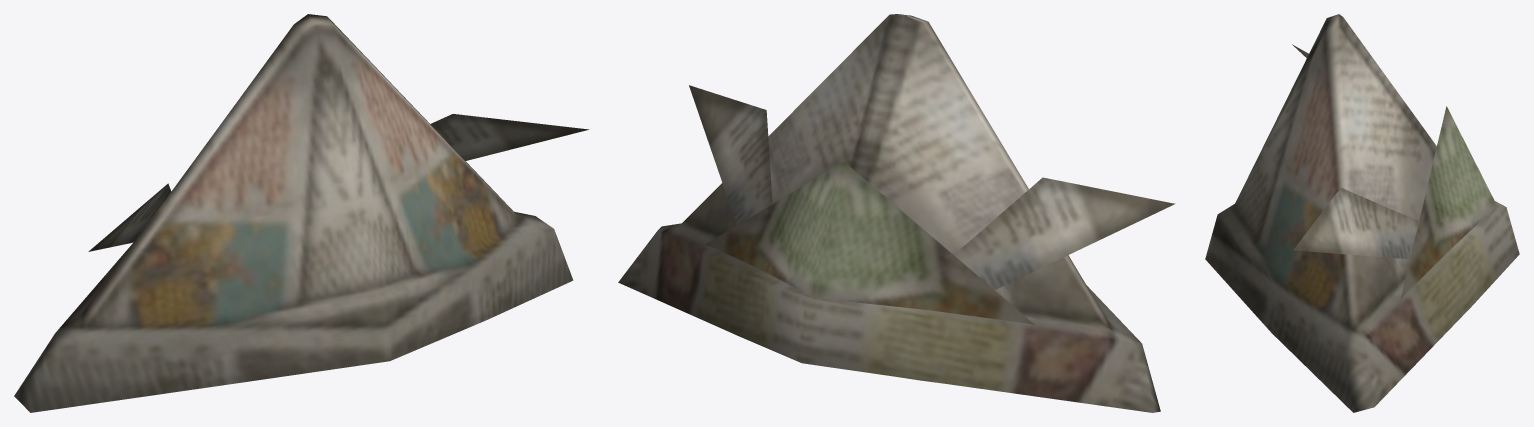
Rendered from paperHat.glb.
The picture shows the model from 3 angles, left to right: view 1: azimuth 30°, elevation 25°; view 2: azimuth 150°, elevation 25°; view 3: azimuth 270°, elevation 25°; orthographic projection. The views are drawn at different scales.
Parts seen in each view (by area): view 1: paperHat; view 2: paperHat; view 3: paperHat.
Part boxes in pixels (left/top/right/bottom): paperHat: left=14, top=14, right=588, bottom=412; paperHat: left=618, top=14, right=1175, bottom=412; paperHat: left=1205, top=14, right=1519, bottom=412.
Bounding box in the file's own units: 0.4746 × 0.2775 × 0.2783.
Materials: 1 (1 with a texture image).
